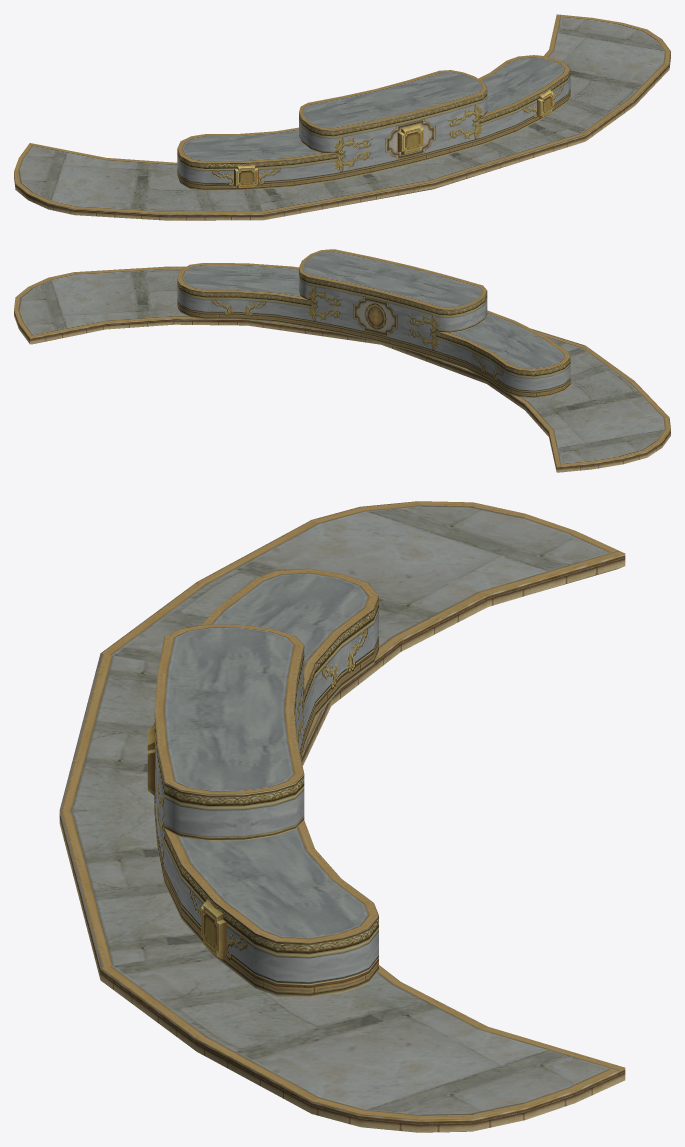
The model's file is maincity_T.FBX.
3 views of the same model, one above another, from view 1: azimuth 30°, elevation 25°; view 2: azimuth 150°, elevation 25°; view 3: azimuth 270°, elevation 25° (orthographic). The views are drawn at different scales.
Visible parts, largest first — view 1: maincity_T; view 2: maincity_T; view 3: maincity_T.
Boxes of the visible parts, x1,y1,x2,y2 form: maincity_T: (14,14,670,220); maincity_T: (14,249,670,472); maincity_T: (59,501,625,1132).
Bounding box in the file's own units: 1149 × 101 × 444.
1 material, 1 textured.
